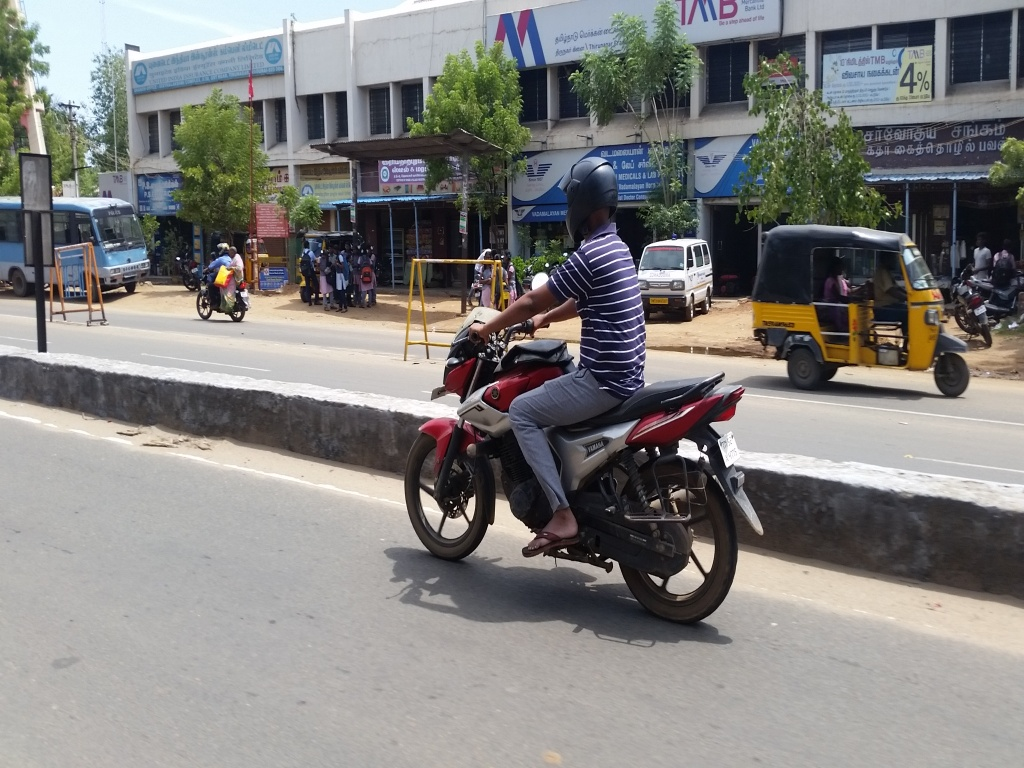biker: (381, 106, 820, 645), (178, 226, 268, 330)
helmet: (553, 137, 631, 254), (214, 240, 230, 258)
nohelmet: (227, 245, 240, 259)
